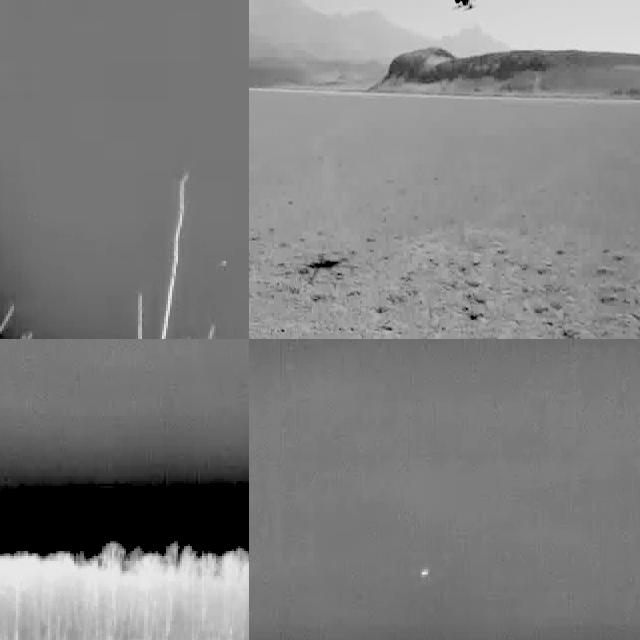0: (214, 255, 240, 275)
1: (411, 556, 447, 596)
drone: (431, 0, 496, 18)
